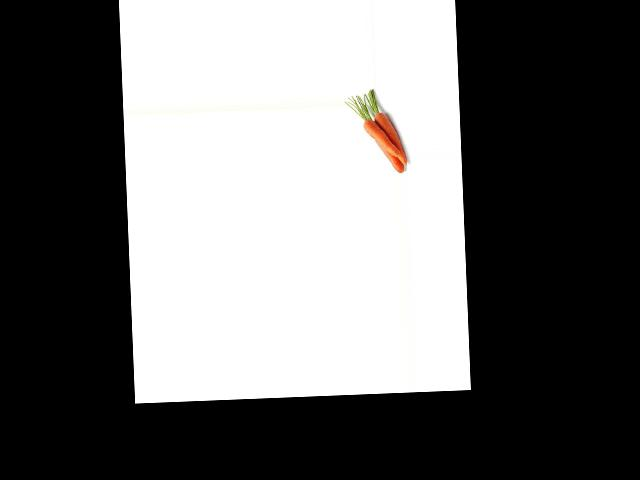carrot: (375, 137, 404, 173)
